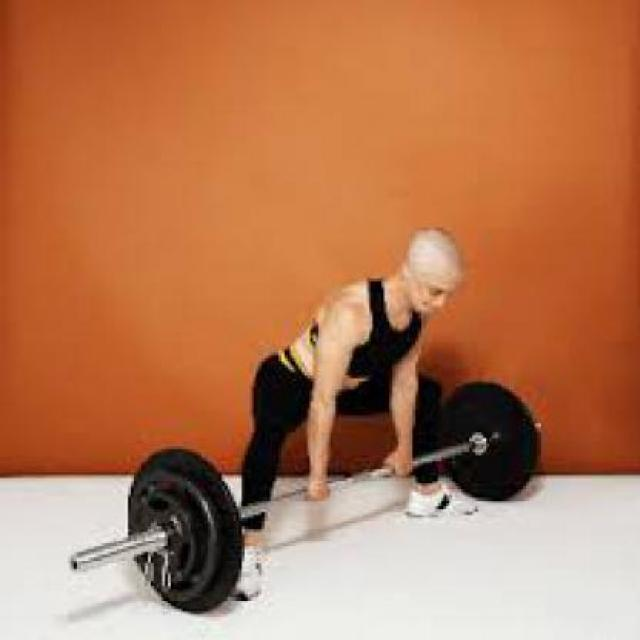Barbell: (60, 543, 88, 577)
